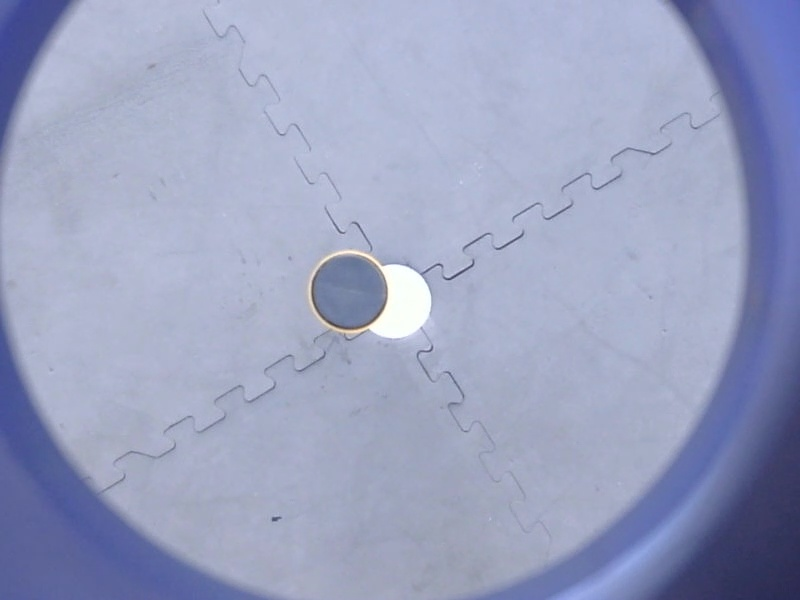tip: (302, 246, 396, 336)
